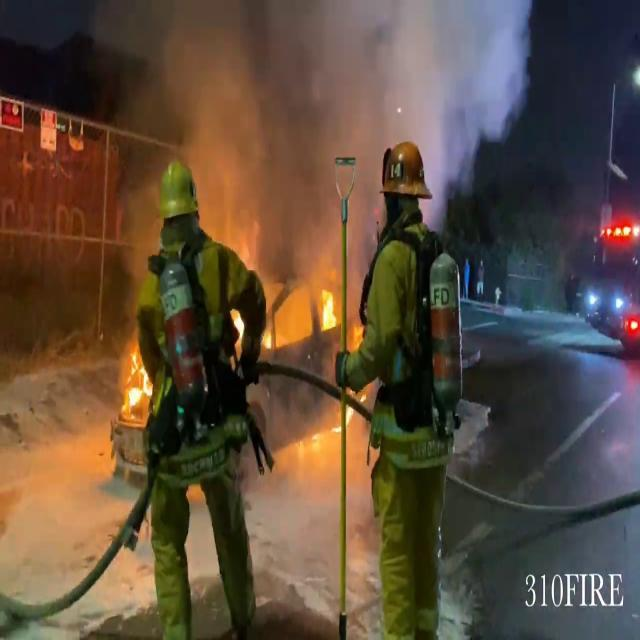Fire: (120, 341, 154, 415), (316, 278, 342, 338)
Smoke: (108, 0, 534, 310)
